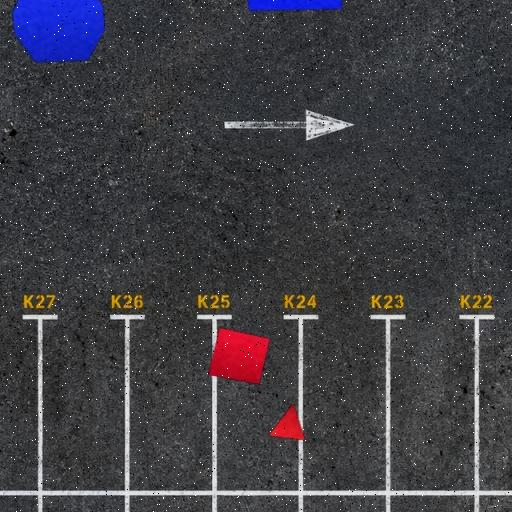RED_SQUARE: (208, 327, 270, 385)
